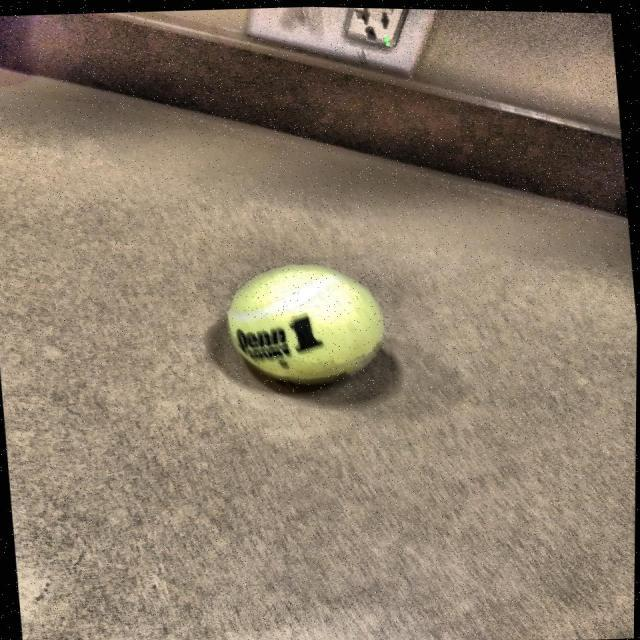tennis-ball: (217, 254, 397, 398)
